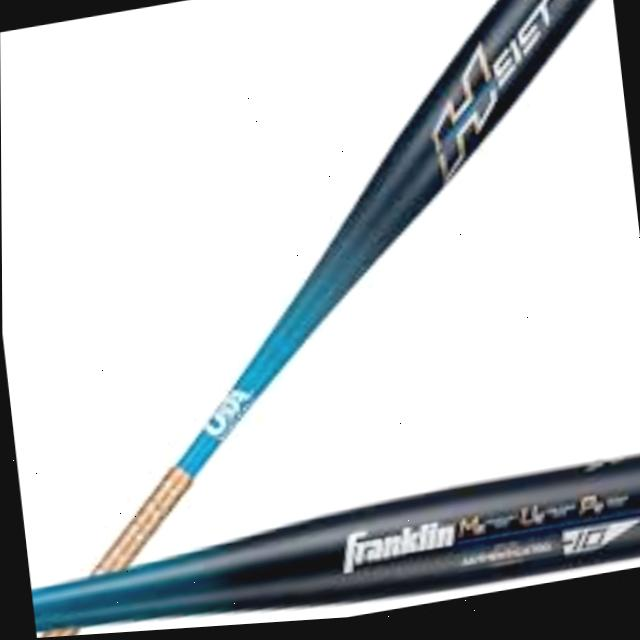baseball bat: (34, 0, 605, 638), (29, 455, 640, 630)
